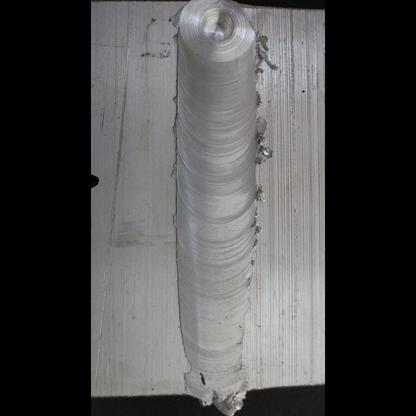cross-section reduction defect: (170, 260, 262, 391)
flash: (254, 33, 274, 254)
galling: (176, 335, 250, 395)
keyhole: (168, 1, 265, 65)
